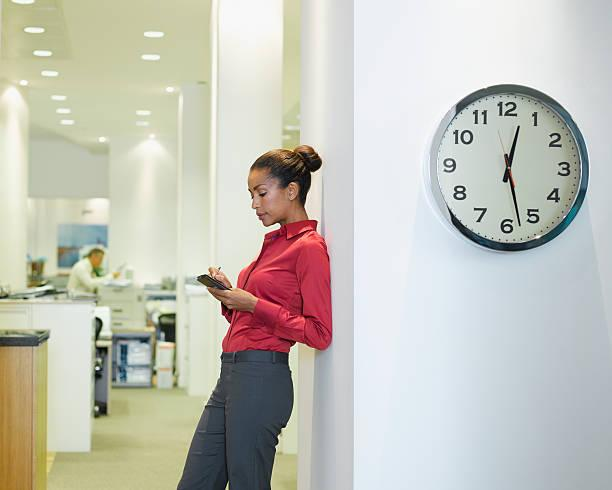clock: (426, 84, 590, 252)
light: (138, 18, 173, 44), (22, 19, 47, 38), (139, 49, 163, 67), (162, 83, 189, 98), (86, 135, 116, 147), (132, 99, 149, 118), (39, 68, 62, 81), (32, 48, 55, 59), (50, 89, 66, 103), (56, 115, 75, 126), (55, 103, 70, 116), (137, 119, 149, 128)
